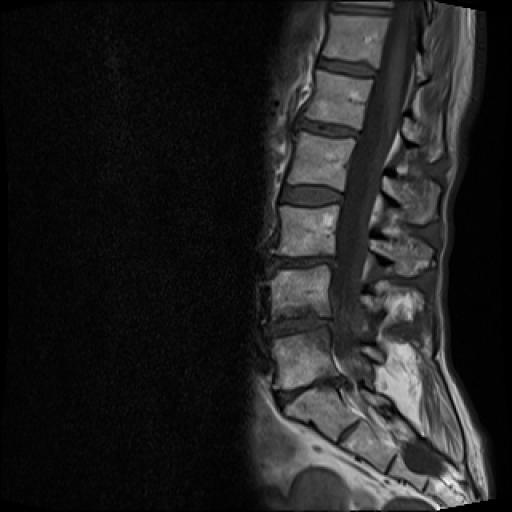L2: (304, 70, 373, 130), (287, 132, 355, 190)
L3: (277, 206, 339, 256)
L4: (271, 266, 331, 318)
L5: (273, 327, 338, 390)
S1: (284, 387, 360, 442)
